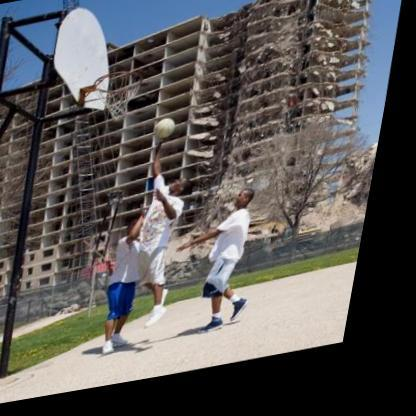basketball: (157, 123, 182, 147)
rim: (95, 71, 148, 102)
